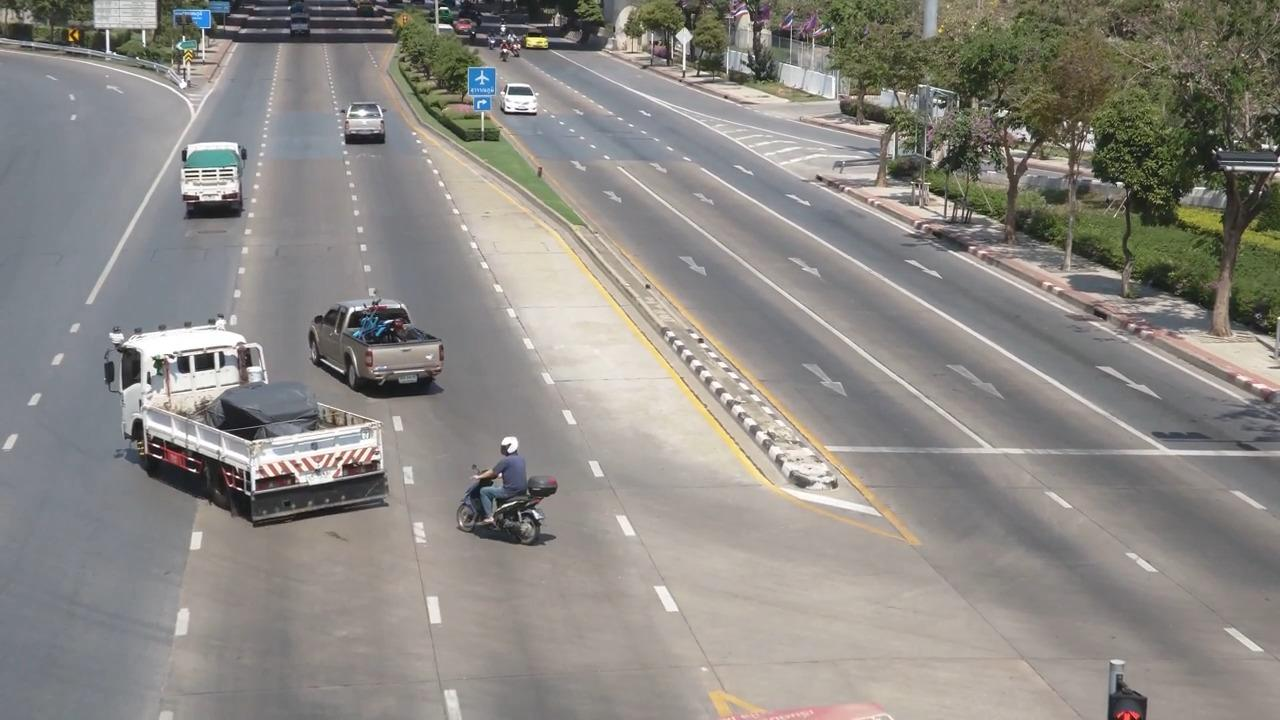CAR: (310, 287, 468, 402), (156, 128, 256, 233), (337, 91, 406, 165), (496, 76, 545, 129), (281, 3, 326, 46)
HGV_BUS: (88, 316, 393, 534)
MOTOR: (451, 414, 569, 552)
